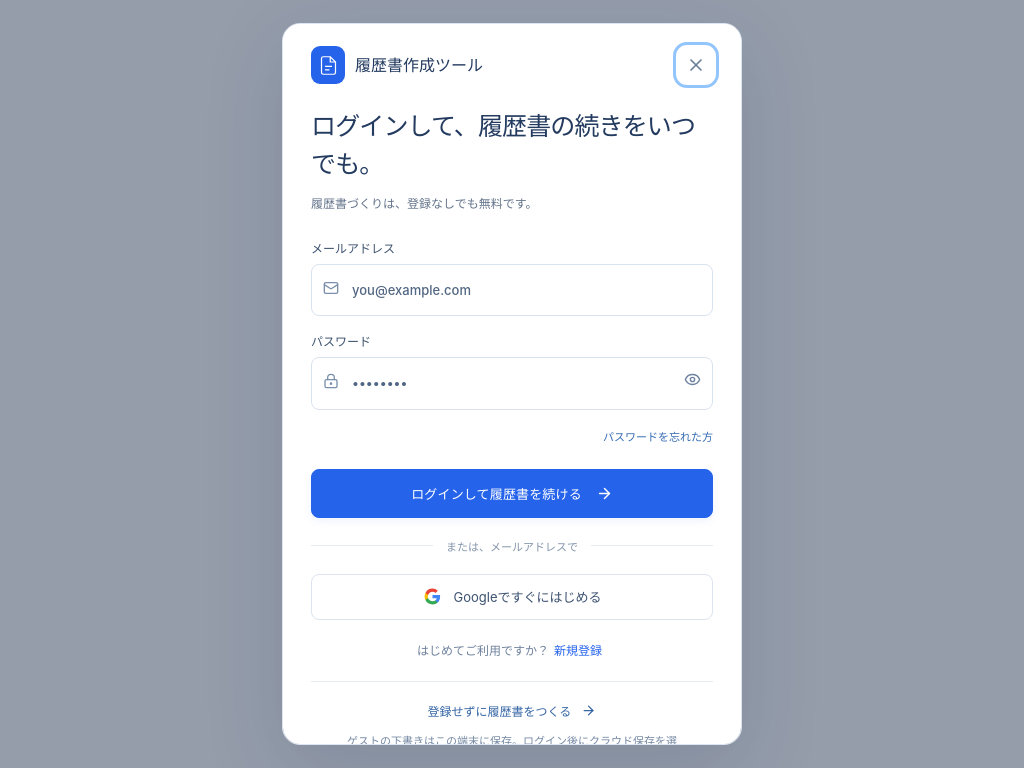
Test case: optional account authentication › keeps the editor in place if persisting the draft before OAuth fails
Click the button "Googleですぐにはじめる": (512, 597) [311,574,713,620]
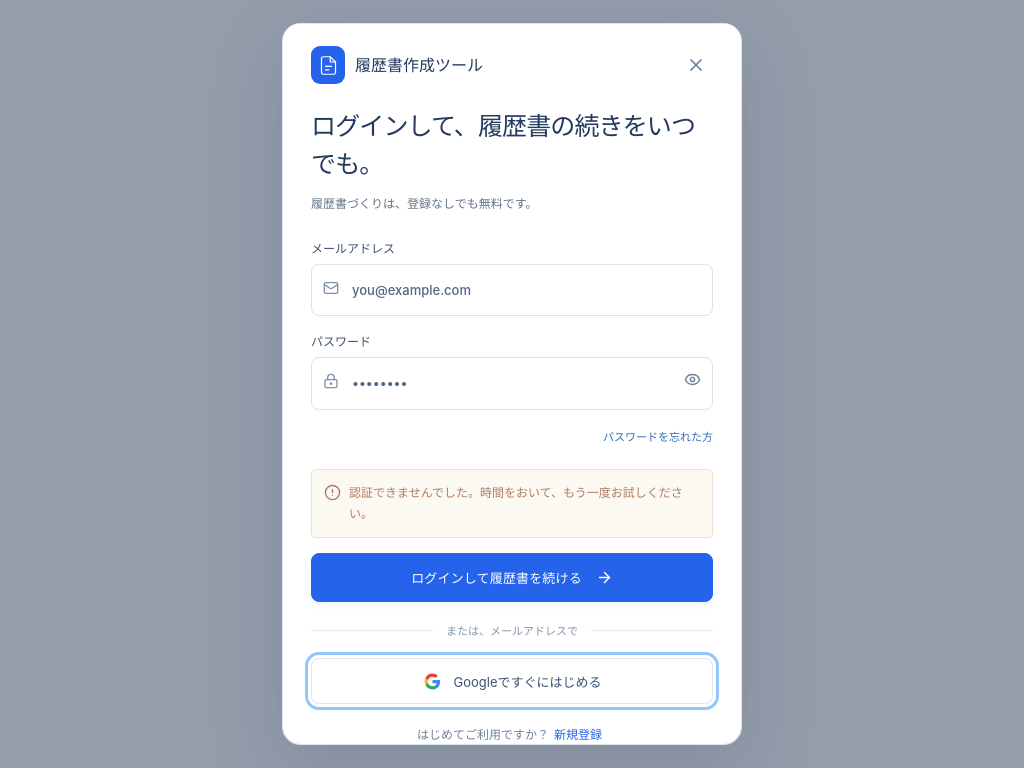
Check: the button "Googleですぐにはじめる" is enabled, box [311,658,713,704]
Check: the message "認証できませんでした。時間をおいて、もう一度お試しください。" is shown, box [311,469,713,538]
